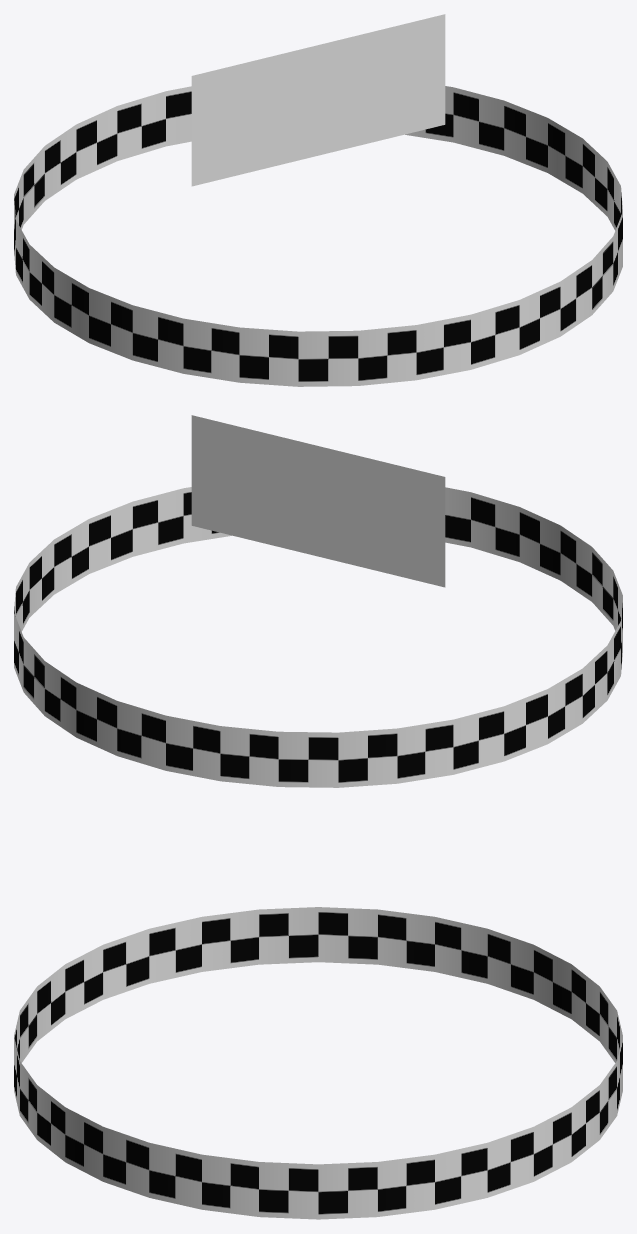
Rendered from goal.fbx.
3 renders of one model, top to bottom at view 1: azimuth 30°, elevation 25°; view 2: azimuth 150°, elevation 25°; view 3: azimuth 270°, elevation 25°, orthographic.
Parts seen in each view (by area): view 1: Goal Ring, Goal; view 2: Goal Ring, Goal; view 3: Goal Ring.
Part boxes in pixels (x1,y1,x2,y2): Goal Ring: (14,86,622,386); Goal: (191,14,445,186); Goal Ring: (14,487,622,787); Goal: (191,415,445,587); Goal Ring: (14,907,622,1219).
Size of the model in its own units: 9.01 by 3.47 by 9.01.
